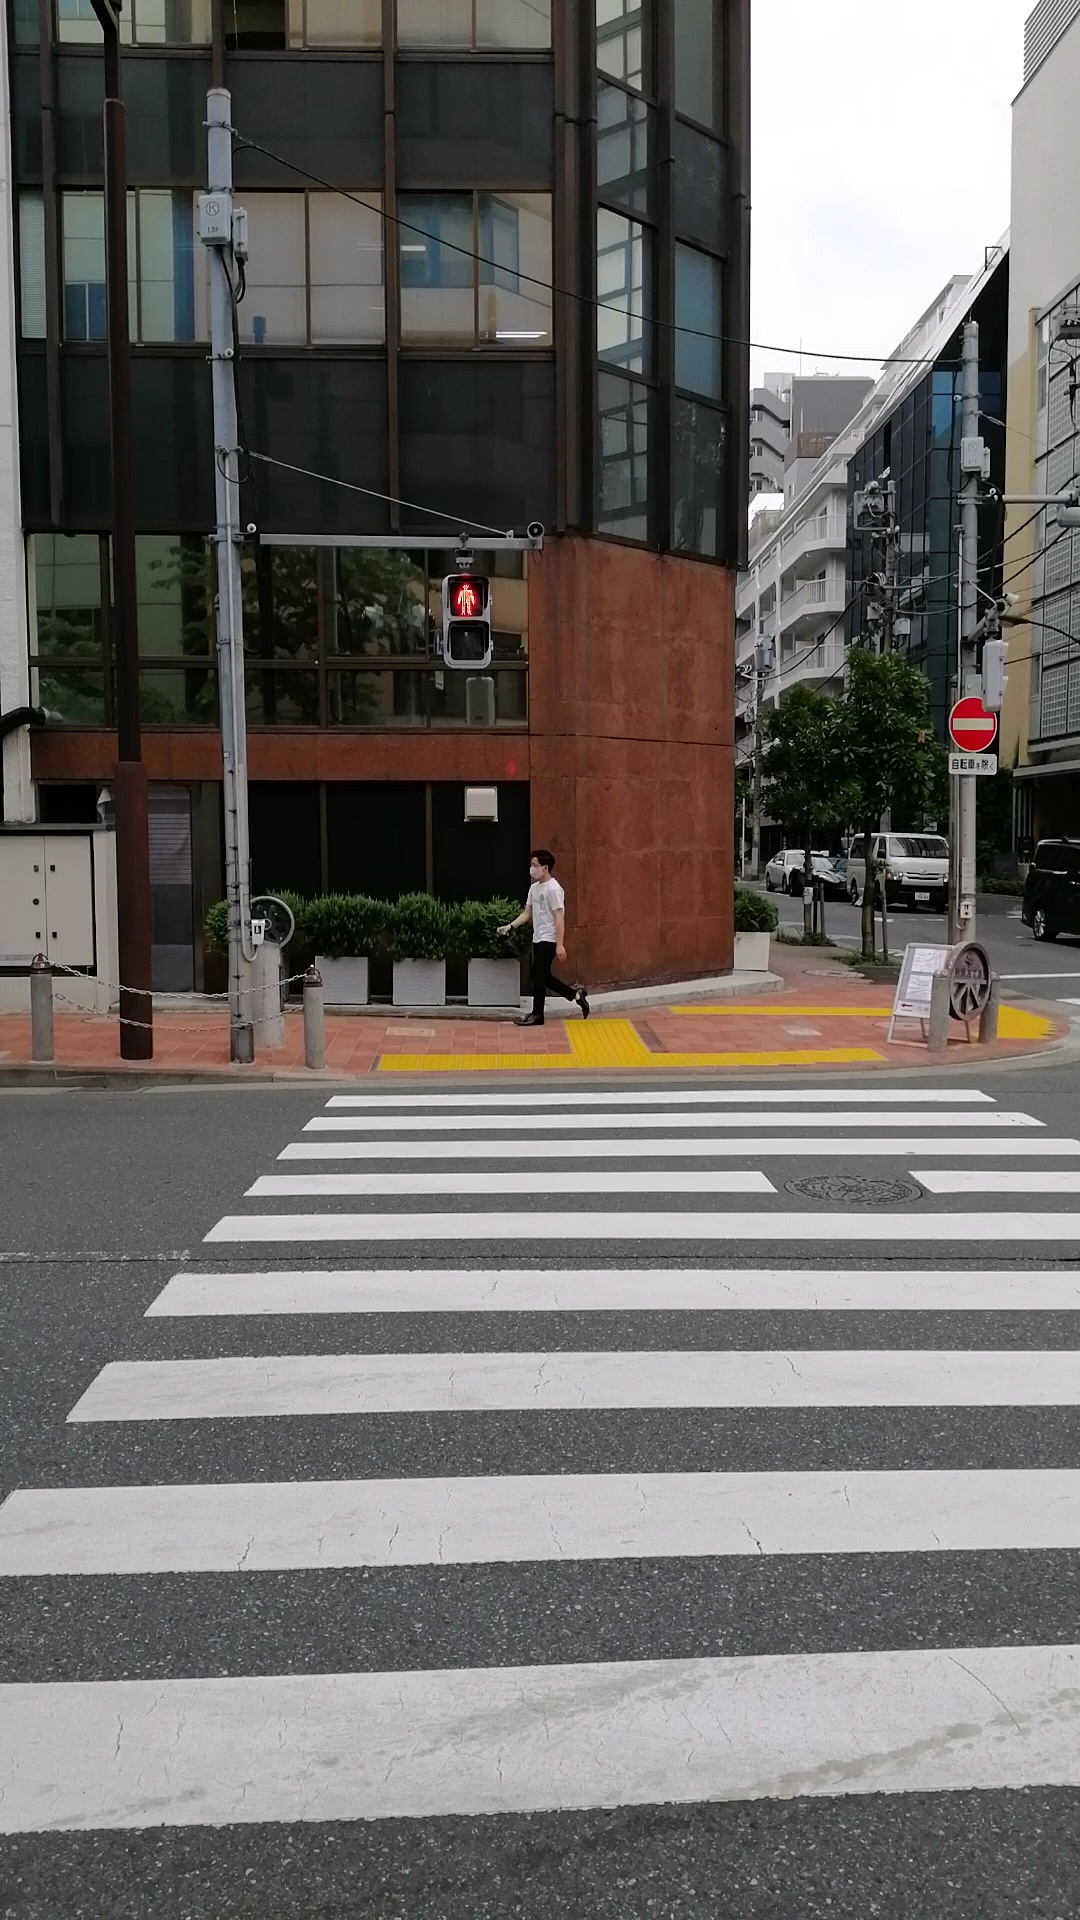red: (439, 574, 492, 673)
